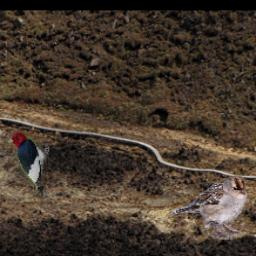Sparrow: (170, 176, 248, 241)
Woodpecker: (5, 132, 50, 197)
